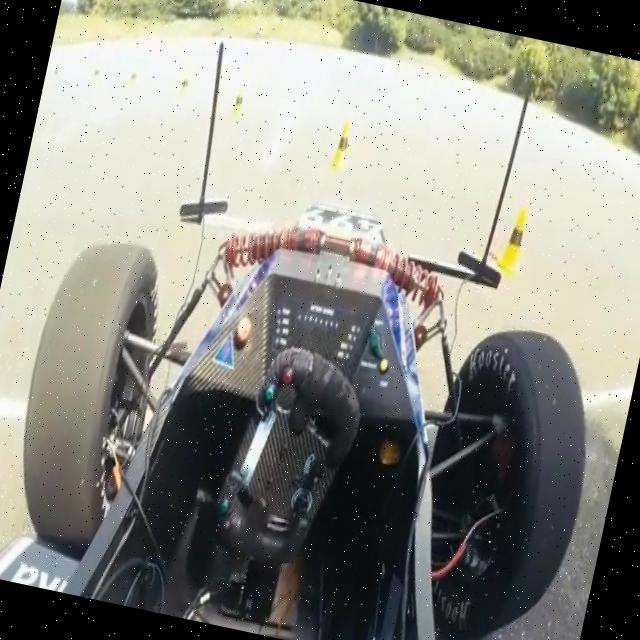yellow_cone: (494, 205, 538, 268), (326, 116, 362, 162), (173, 58, 195, 119), (228, 83, 258, 119), (123, 61, 155, 90)
